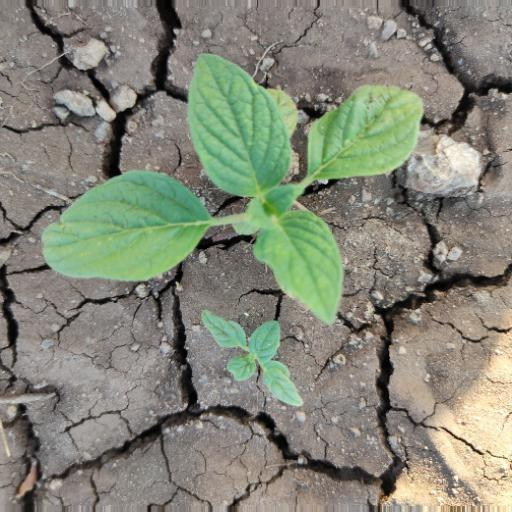crop: (34, 52, 428, 318), (187, 307, 305, 415)
